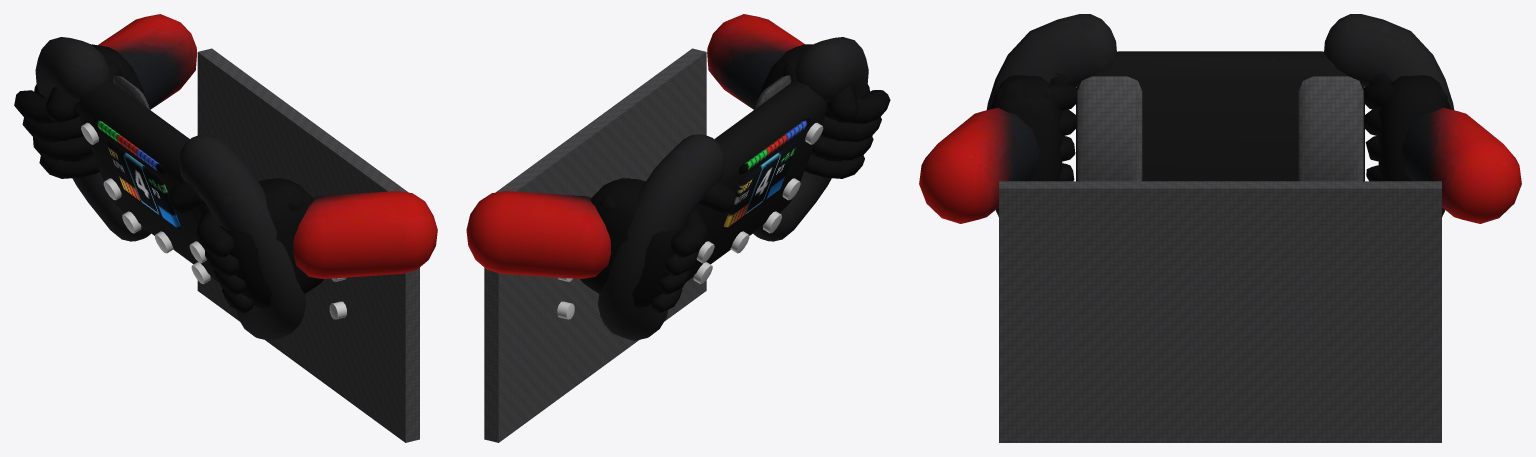
The model's file is tm_tempesta_cockpit_low.glb.
3 renders of one model, left to right at view 1: azimuth 30°, elevation 25°; view 2: azimuth 150°, elevation 25°; view 3: azimuth 270°, elevation 25°, orthographic. The views are drawn at different scales.
Visible parts, largest first — view 1: cockpit_shell, hands, steering_wheel; view 2: cockpit_shell, hands, steering_wheel; view 3: cockpit_shell, steering_wheel, hands.
Part boxes in pixels (box(x1,y1,x2,y2)): cockpit_shell: box(197, 48, 419, 442); hands: box(14, 14, 437, 312); steering_wheel: box(35, 37, 306, 340); cockpit_shell: box(484, 48, 706, 442); hands: box(466, 14, 890, 312); steering_wheel: box(598, 37, 868, 340); cockpit_shell: box(999, 181, 1441, 442); steering_wheel: box(986, 14, 1454, 216); hands: box(919, 73, 1521, 223).
Size of the model in its own units: 0.1724 by 0.2509 by 0.4085.
Materials: 2 (2 with a texture image).
